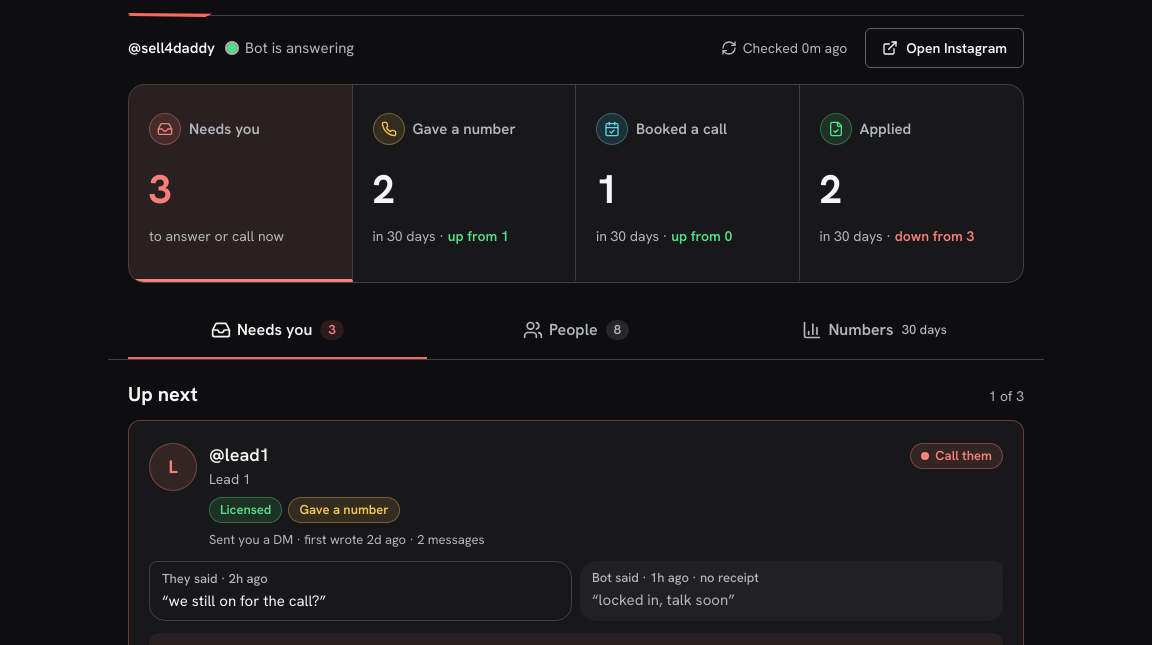
Test case: Instagram desk › a number at the top opens exactly the people it counts
Expected: the heading "Up next" is shown, [128, 380, 198, 408]
Click the button "Gave a number 2 in 30 days · up from 1": (464, 184) [352, 85, 576, 282]
(page scrolled)
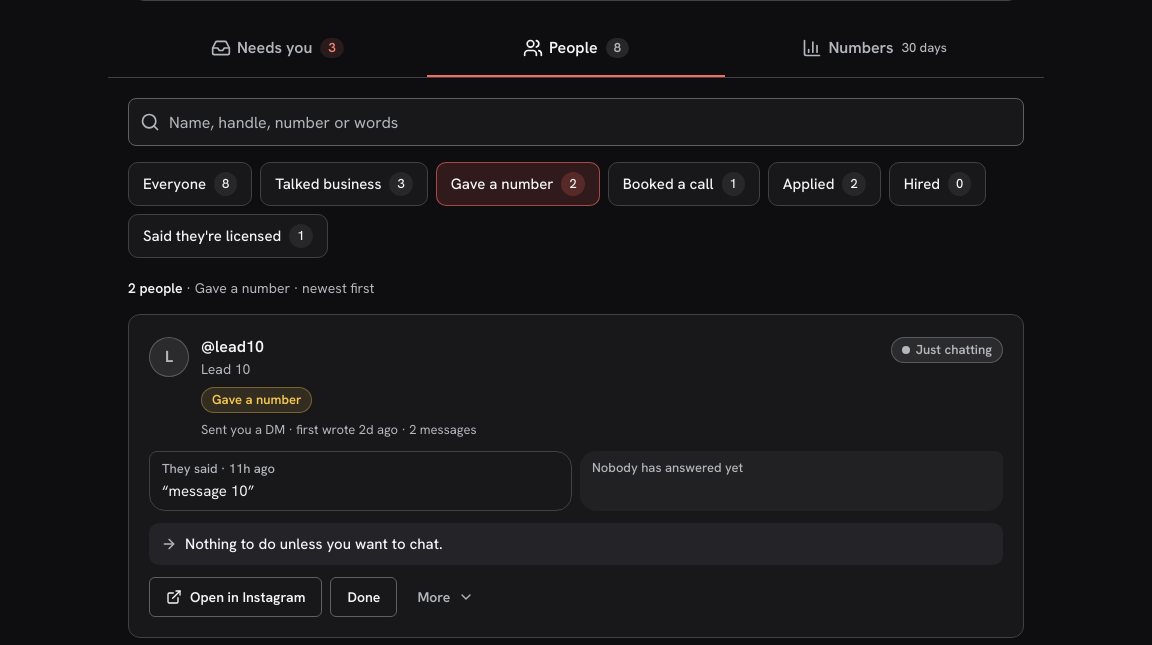
Expected: the button "Gave a number 2" is shown, [436, 162, 600, 206]
